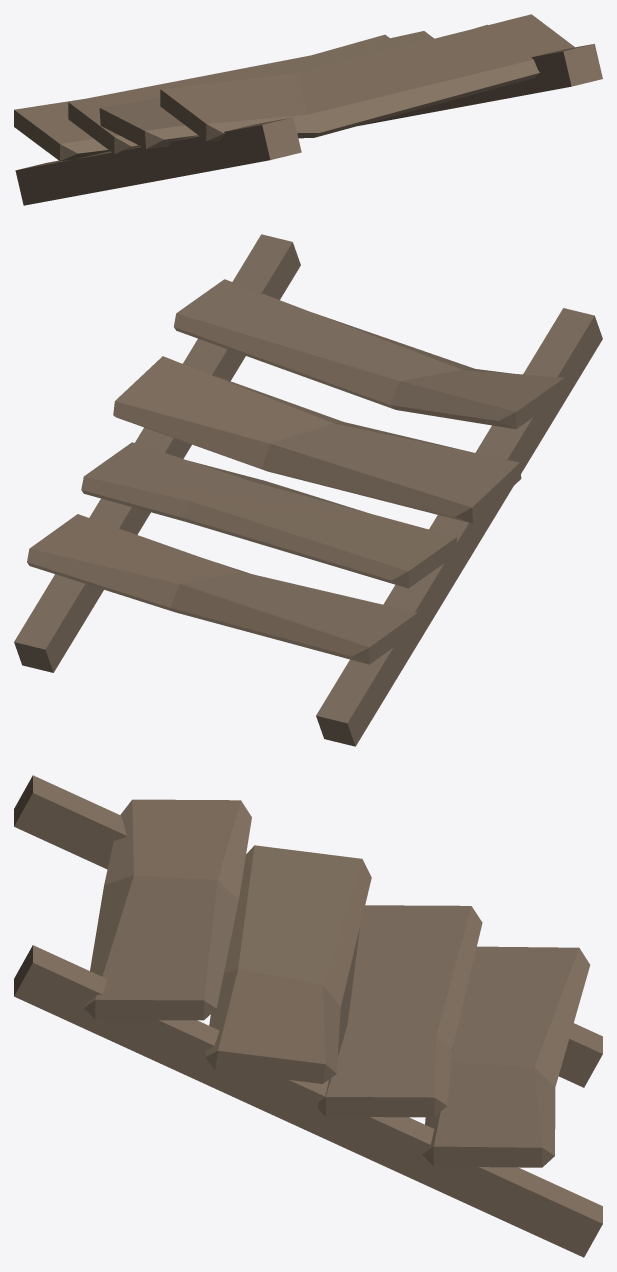
Rendered from kingdom_SM_Env_Structure_Stairs_01.gltf.
3 renders of one model, top to bottom at view 1: azimuth 30°, elevation 25°; view 2: azimuth 150°, elevation 25°; view 3: azimuth 270°, elevation 25°, orthographic. The views are drawn at different scales.
Visible parts, largest first — view 1: SM_Env_Structure_Stairs_01; view 2: SM_Env_Structure_Stairs_01; view 3: SM_Env_Structure_Stairs_01.
Boxes of the visible parts, bbox=[...] form: SM_Env_Structure_Stairs_01: bbox=[14, 14, 602, 205]; SM_Env_Structure_Stairs_01: bbox=[14, 234, 602, 746]; SM_Env_Structure_Stairs_01: bbox=[14, 775, 602, 1257].
Size of the model in its own units: 0.847 by 0.5536 by 1.
Materials: 1 (1 with a texture image).
